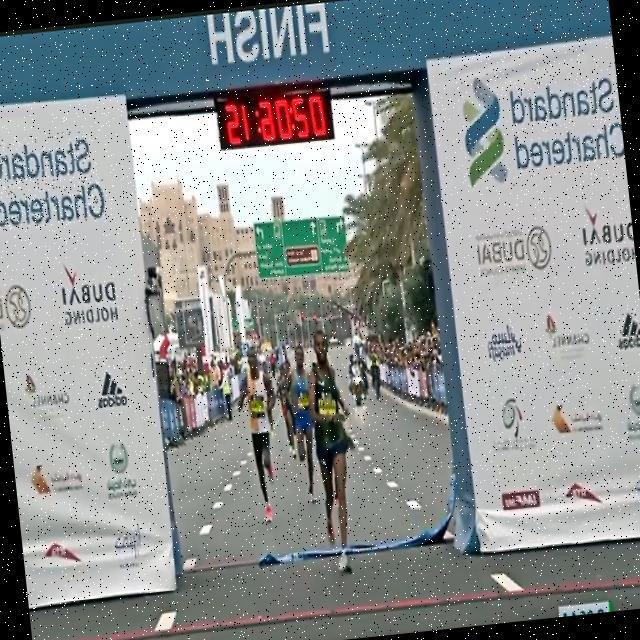Adidas: (94, 366, 129, 411), (613, 305, 640, 351)
Standard Chartered: (457, 57, 626, 191), (0, 128, 106, 231)
